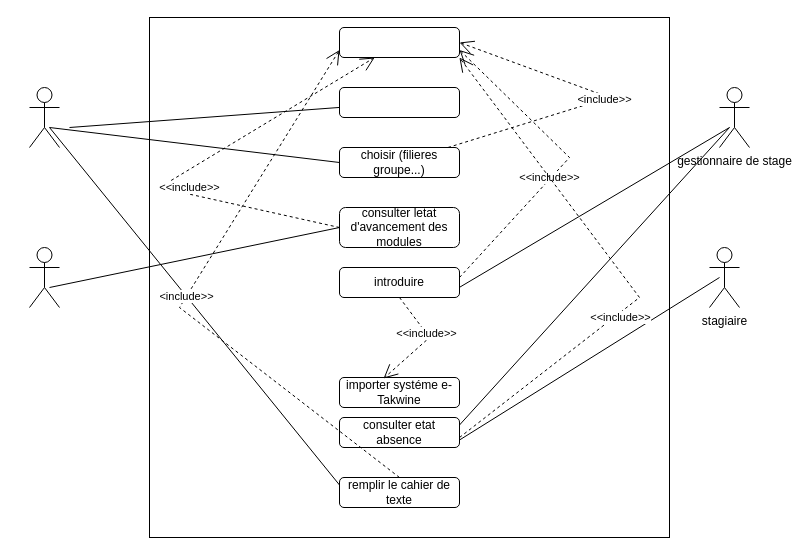
Some shapes in this 809 by 555 pixel diagram are drawn without their labels. Each missing label, with the box of its shape:
dirécteur: (28, 246, 60, 308)
enregistrer les stagiaires absents: (338, 86, 460, 118)
Formateur: (28, 86, 60, 148)
identifier: (338, 26, 460, 58)
